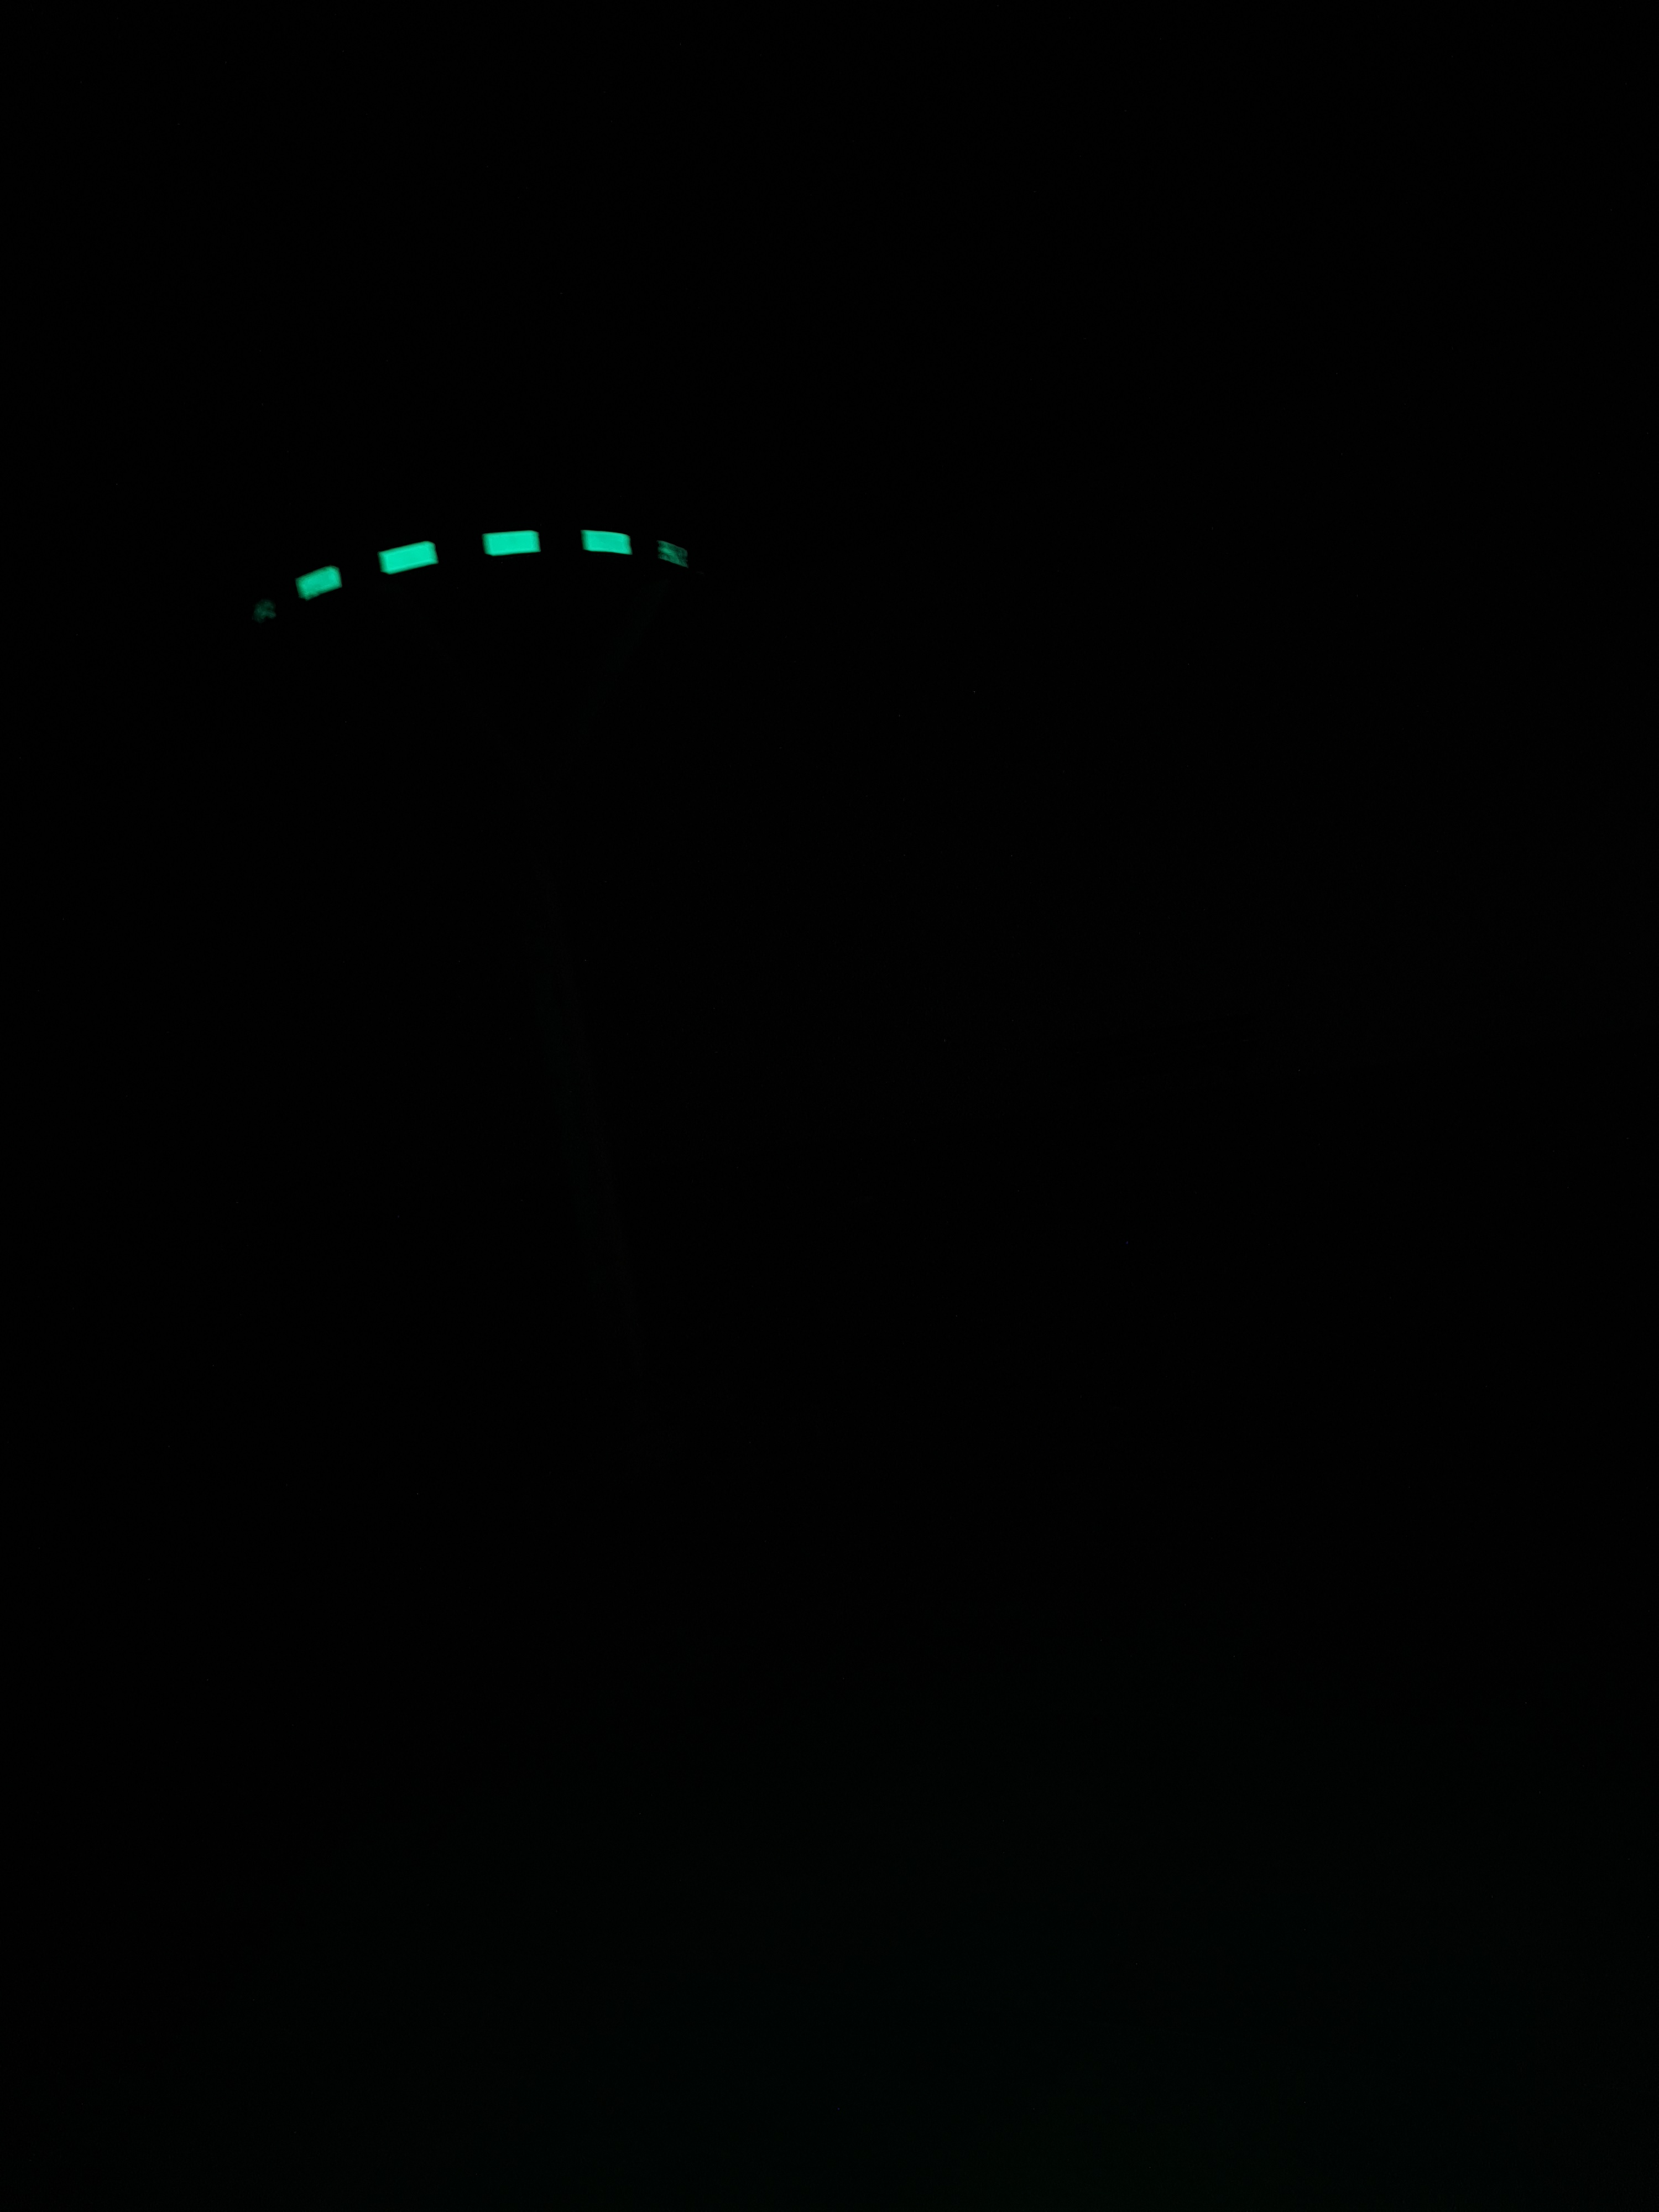hoop: (256, 528, 690, 622)
